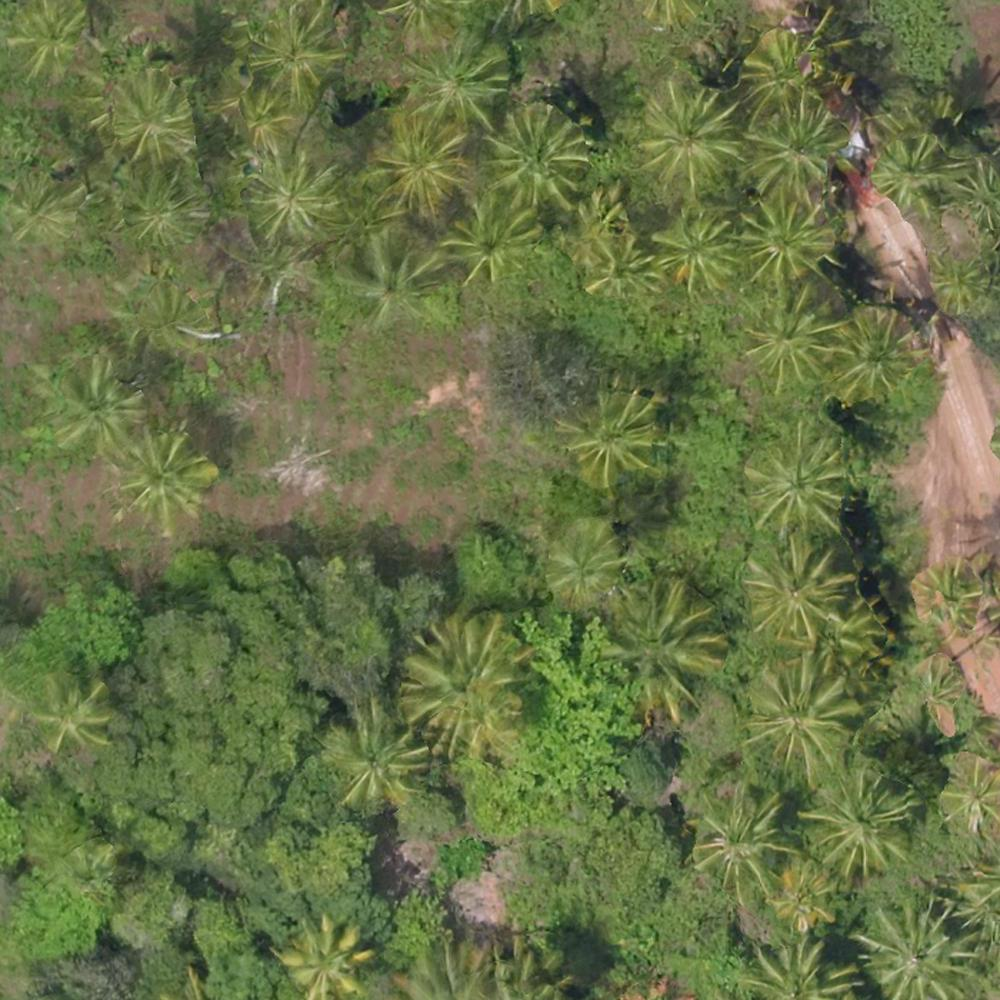Palm: (607, 582, 724, 722), (745, 659, 858, 776), (407, 624, 519, 740), (861, 902, 979, 1000), (807, 766, 914, 874), (696, 781, 796, 893), (740, 542, 850, 640), (641, 82, 743, 181), (341, 229, 445, 324), (748, 431, 844, 531), (329, 707, 425, 806), (402, 35, 509, 121), (248, 9, 343, 105), (118, 429, 212, 524), (491, 108, 585, 201), (366, 123, 467, 207), (742, 293, 833, 385), (736, 196, 831, 283), (564, 392, 659, 479), (278, 916, 376, 999), (47, 359, 136, 450), (108, 76, 193, 166), (828, 313, 919, 397), (745, 111, 833, 197), (3, 1, 92, 86), (449, 198, 535, 283), (247, 154, 335, 235), (653, 210, 732, 296), (119, 174, 203, 251), (3, 167, 80, 247), (31, 677, 113, 751), (742, 34, 815, 111), (877, 133, 946, 208), (574, 232, 653, 294), (231, 89, 299, 158), (552, 525, 619, 595), (768, 867, 837, 932), (935, 757, 1000, 826)
